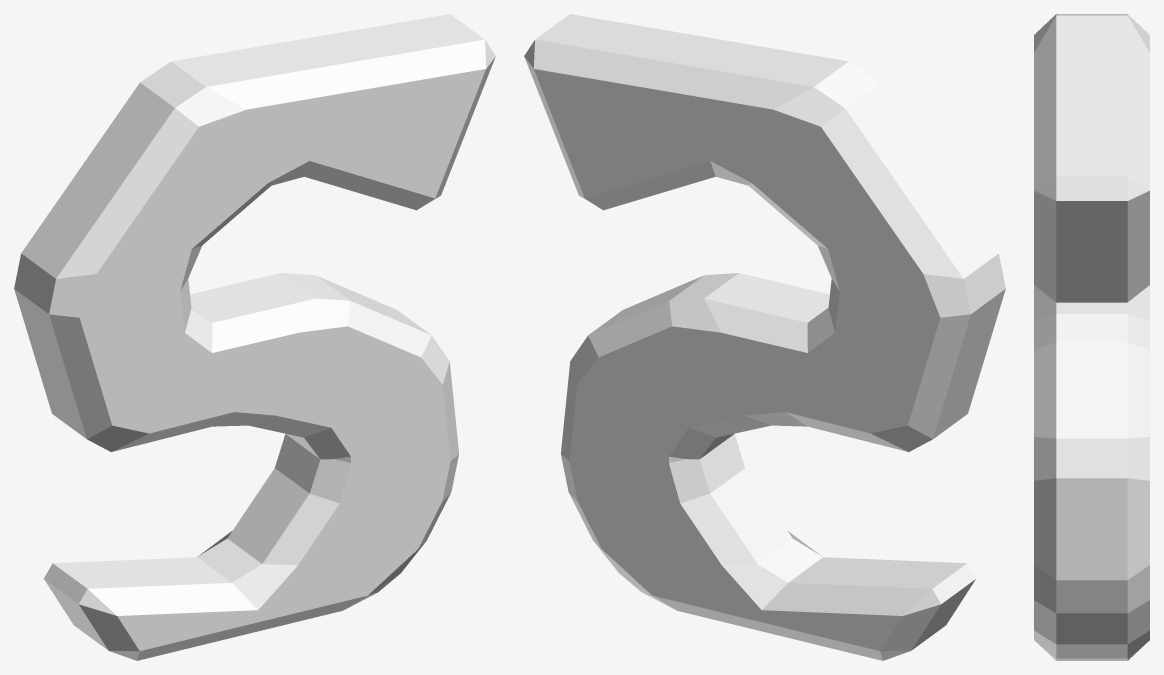
The model's file is five.glb.
The picture shows the model from 3 angles, left to right: view 1: azimuth 30°, elevation 25°; view 2: azimuth 150°, elevation 25°; view 3: azimuth 270°, elevation 25°; orthographic projection. The views are drawn at different scales.
Parts seen in each view (by area): view 1: Five; view 2: Five; view 3: Five.
Part boxes in pixels (left/top/right/bottom): Five: left=14, top=14, right=495, bottom=660; Five: left=524, top=14, right=1005, bottom=660; Five: left=1034, top=14, right=1149, bottom=660.
Size of the model in its own units: 0.156 by 0.1858 by 0.0343.
Materials: 1 (1 with a texture image).
